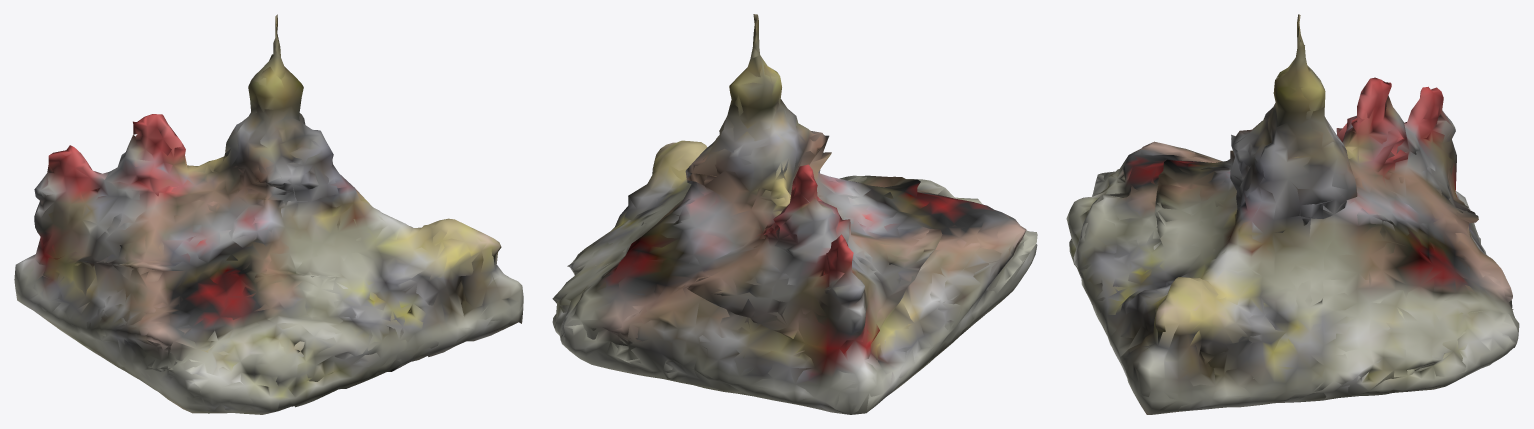
Rendered from soviet_conyard.glb.
3 renders of one model, left to right at view 1: azimuth 30°, elevation 25°; view 2: azimuth 150°, elevation 25°; view 3: azimuth 270°, elevation 25°, orthographic. The views are drawn at different scales.
Parts seen in each view (by area): view 1: soviet_conyard; view 2: soviet_conyard; view 3: soviet_conyard.
Part boxes in pixels (box(x1,y1,x2,y2)): soviet_conyard: box(14, 14, 523, 414); soviet_conyard: box(552, 14, 1037, 414); soviet_conyard: box(1066, 14, 1519, 414).
Size of the model in its own units: 1.89 by 1.42 by 1.86.
